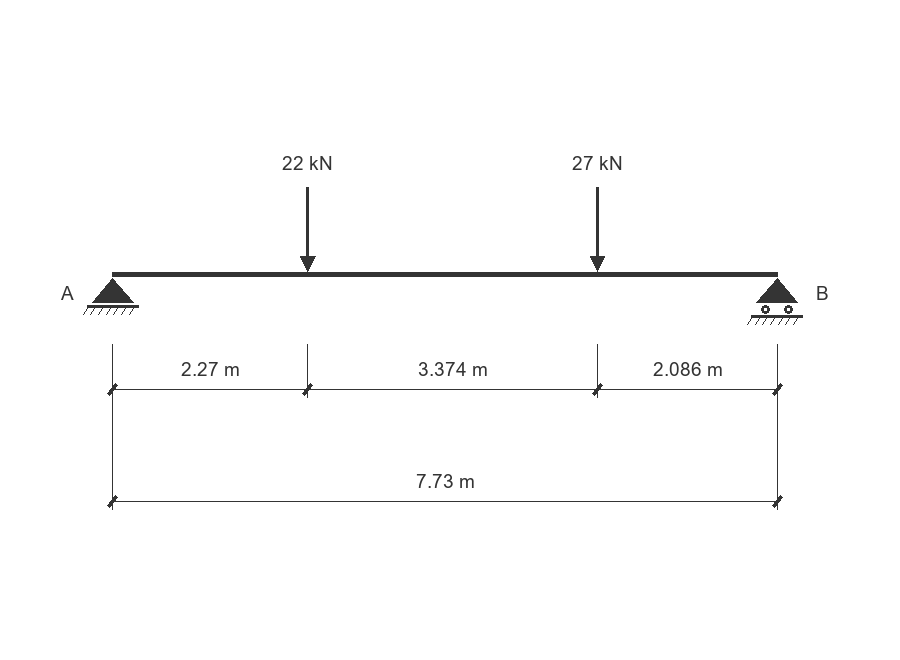pin_support: (83, 278, 139, 315)
point_load: (300, 187, 316, 272), (590, 187, 605, 272)
roller_support: (747, 278, 803, 325)
